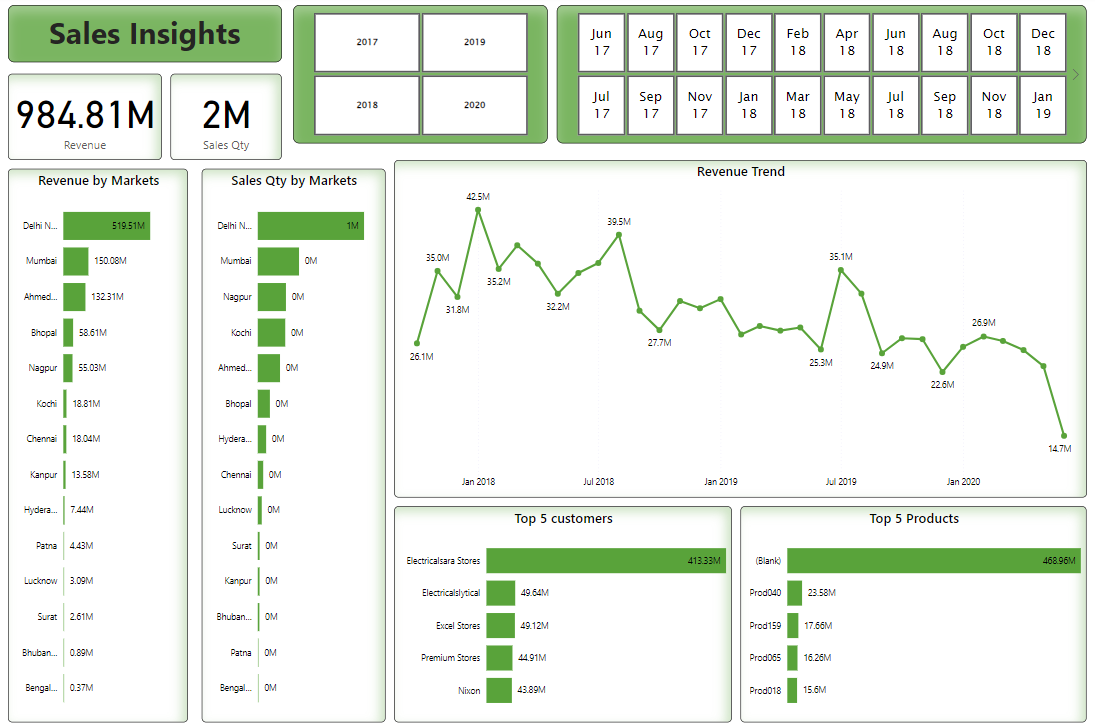

Layout of this report page (visuals, bound fields, positions):
{"tool":"powerbi","page":{"name":"Page 1","canvas":[1550,1038],"ordinal":0},"visuals":[{"type":"card","fields":{"Values":["Base Measures.Revenue"]},"box":[14.1,111.1,216.8,121.6],"z":0},{"type":"card","fields":{"Values":["Base Measures.Sales Qty"]},"box":[243.3,111.1,156.9,121.6],"z":1000},{"type":"barChart","title":"Revenue by Markets","fields":{"Y":["Base Measures.Revenue"],"Category":["sales markets.markets_name"]},"box":[14.1,245,253.9,781],"z":2000},{"type":"barChart","title":"Sales Qty by Markets","fields":{"Y":["Base Measures.Sales Qty"],"Category":["sales markets.markets_name"]},"box":[287.4,245,259.1,781],"z":3000},{"type":"slicer","fields":{"Values":["sales date.year"]},"box":[415.9,13.8,358.9,195],"z":4000},{"type":"slicer","fields":{"Values":["sales date.cy_date"]},"box":[788.6,13.8,747.2,195],"z":5000},{"type":"barChart","title":"Top 5 customers","fields":{"Y":["Base Measures.Revenue"],"Category":["sales customers.custmer_name"]},"box":[558.8,721,476,305],"z":6000},{"type":"barChart","title":"Top 5 Products","fields":{"Y":["Base Measures.Revenue"],"Category":["sales products.product_code"]},"box":[1047.2,721,488.3,305],"z":7000},{"type":"lineChart","title":"Revenue Trend","fields":{"Category":["sales date.cy_date"],"Y":["Base Measures.Revenue"]},"box":[558.8,232.7,976.7,476],"z":8000},{"type":"textbox","box":[14.1,14.1,386.1,81.1],"z":9000}]}

Visuals, with their boxes in screenshot pixels (x1, y1, x2, y2), scaled from the page's 1550x1038 canvas onto the 1095x725 screenshot:
card - Base Measures.Revenue: 10, 78, 163, 163
card - Base Measures.Sales Qty: 172, 78, 283, 163
"Revenue by Markets" barChart: 10, 171, 189, 717
"Sales Qty by Markets" barChart: 203, 171, 386, 717
slicer - sales date.year: 294, 10, 547, 146
slicer - sales date.cy_date: 557, 10, 1085, 146
"Top 5 customers" barChart: 395, 504, 731, 717
"Top 5 Products" barChart: 740, 504, 1085, 717
"Revenue Trend" lineChart: 395, 163, 1085, 495
textbox: 10, 10, 283, 66
